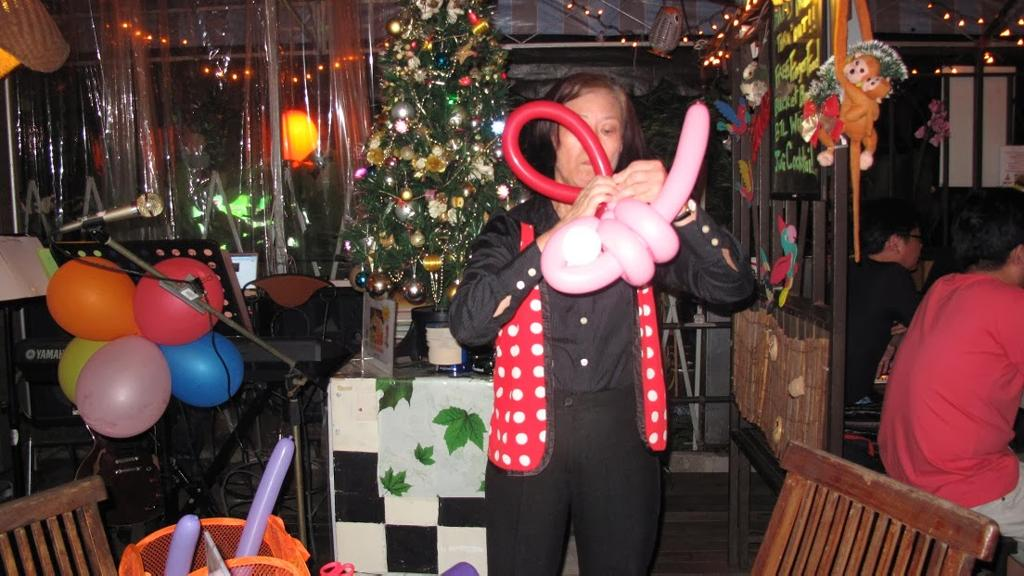face: (556, 92, 620, 192)
